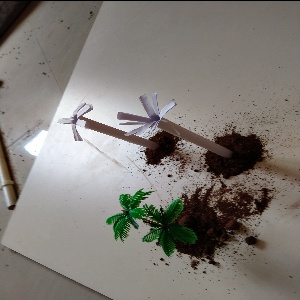plant: (105, 186, 205, 259)
weed: (116, 82, 239, 162), (57, 104, 156, 169)
